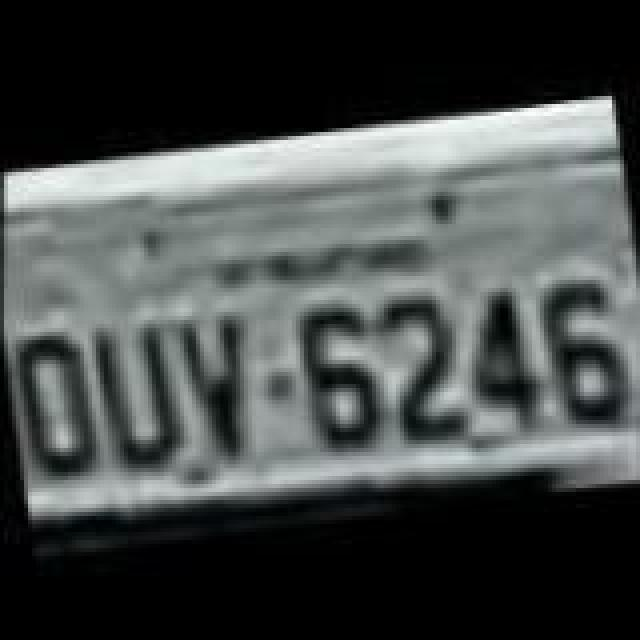2: (372, 284, 480, 440)
4: (450, 276, 554, 440)
6: (528, 262, 640, 430), (288, 296, 388, 448)
O: (2, 328, 102, 480)
U: (82, 312, 190, 468)
V: (166, 306, 266, 462)
